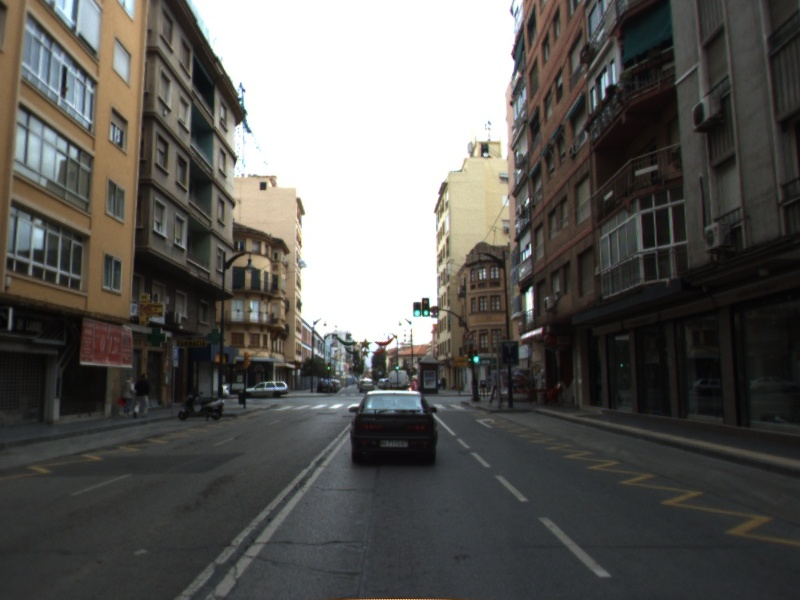RIGHT: (474, 415, 497, 431)
